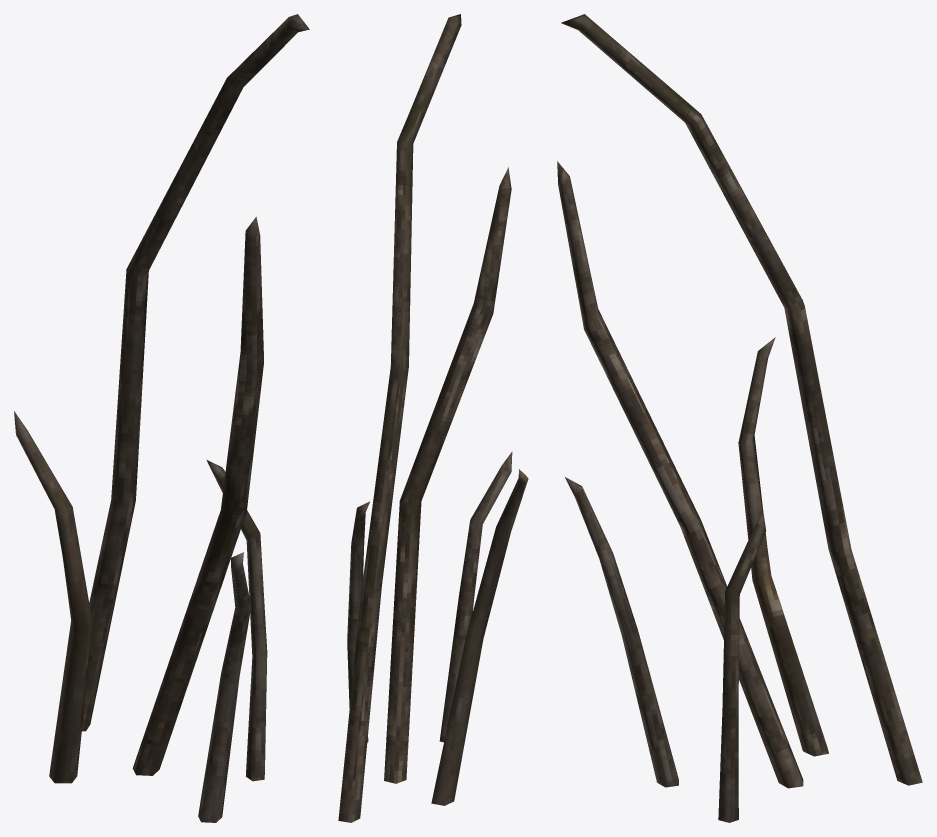
The model's file is tree_branch_4.fbx.
The picture shows the model from 3 angles, left to right: view 1: azimuth 30°, elevation 25°; view 2: azimuth 150°, elevation 25°; view 3: azimuth 270°, elevation 25°; orthographic projection. The views are drawn at different scales.
Parts seen in each view (by area): view 1: tree_branch_4; view 2: tree_branch_4; view 3: tree_branch_4.
Part boxes in pixels (x1,y1,x2,y2): tree_branch_4: (14,14,309,822); tree_branch_4: (338,14,528,822); tree_branch_4: (557,14,922,822).
Size of the model in its own units: 34.47 by 49.12 by 116.
